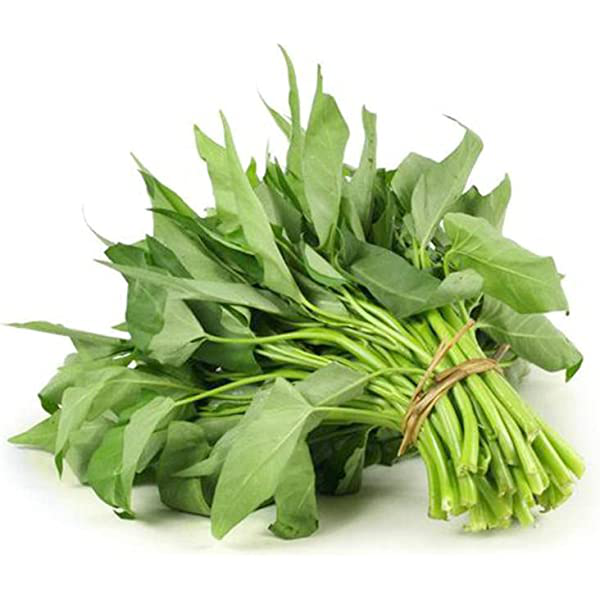Kangkung: (61, 41, 595, 581)
